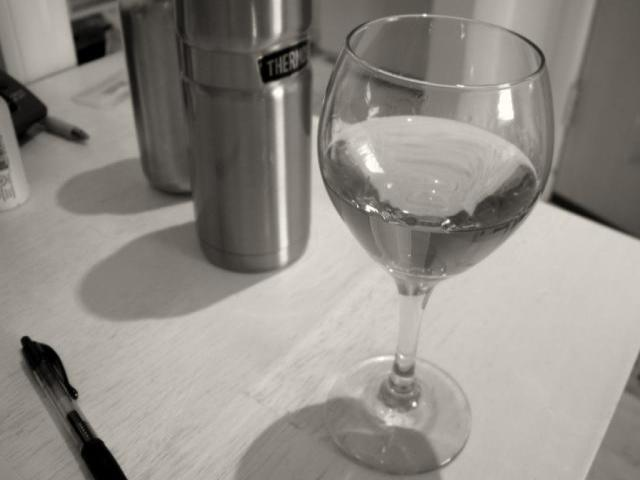PEN: (0, 323, 140, 480)
